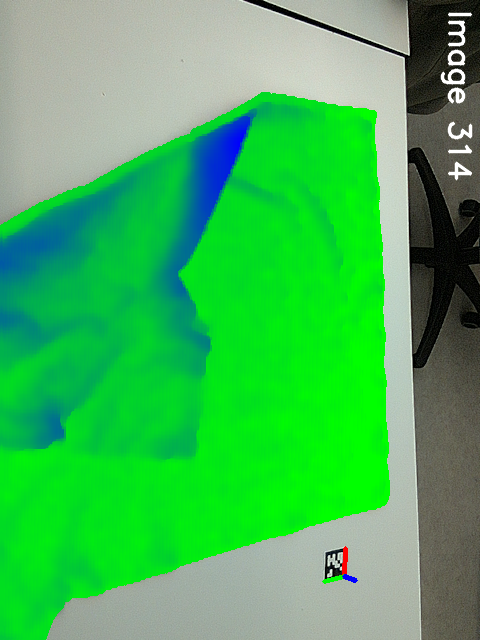V: (160, 425, 218, 468)
